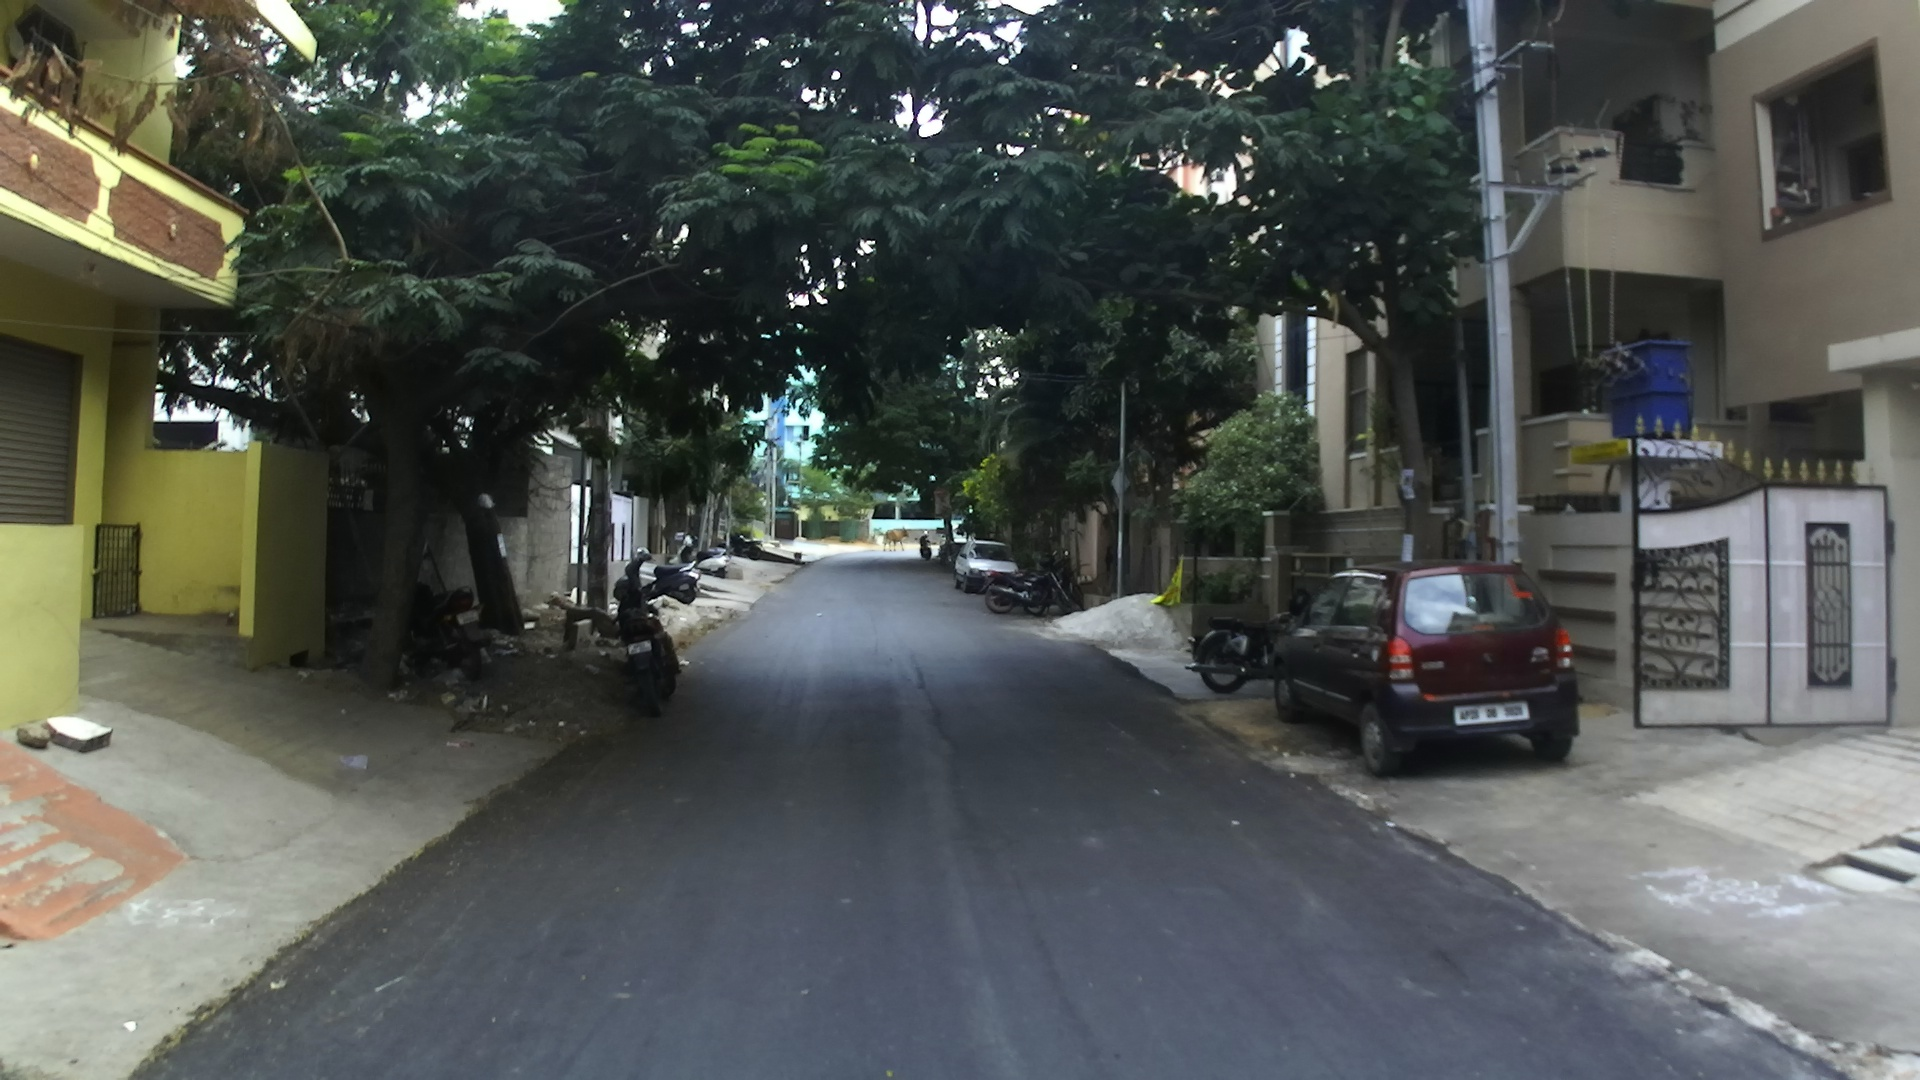vehicle: (1266, 560, 1581, 773), (615, 618, 678, 717), (955, 543, 1019, 593), (978, 564, 1044, 611), (641, 559, 702, 607)
